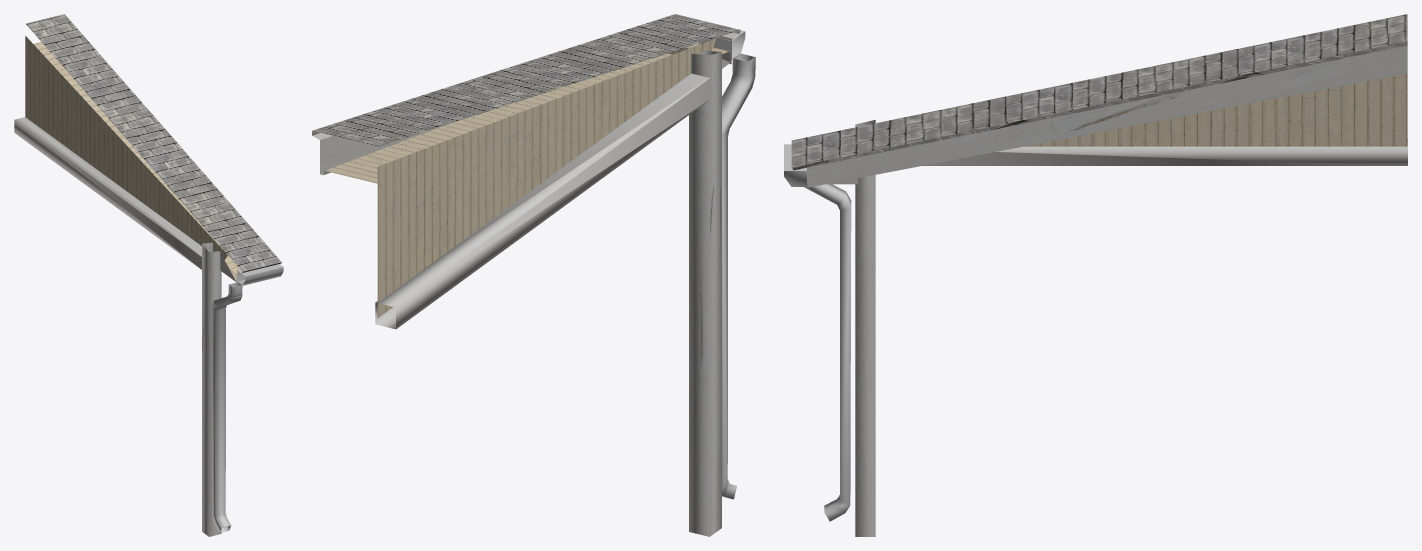
The model's file is Porch_End_Right_4x_COL.FBX.
The picture shows the model from 3 angles, left to right: view 1: azimuth 30°, elevation 25°; view 2: azimuth 150°, elevation 25°; view 3: azimuth 270°, elevation 25°; orthographic projection. The views are drawn at different scales.
Parts seen in each view (by area): view 1: Porch_End_Right_4x_COL; view 2: Porch_End_Right_4x_COL; view 3: Porch_End_Right_4x_COL.
Part boxes in pixels (x1,y1,x2,y2): Porch_End_Right_4x_COL: [14, 14, 283, 536]; Porch_End_Right_4x_COL: [312, 14, 755, 536]; Porch_End_Right_4x_COL: [784, 14, 1407, 536].
Bounding box in the file's own units: 52.41 × 366 × 397.
